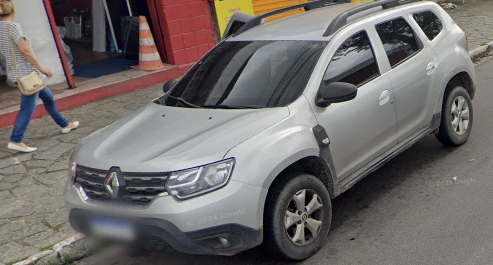car: (68, 4, 481, 261)
